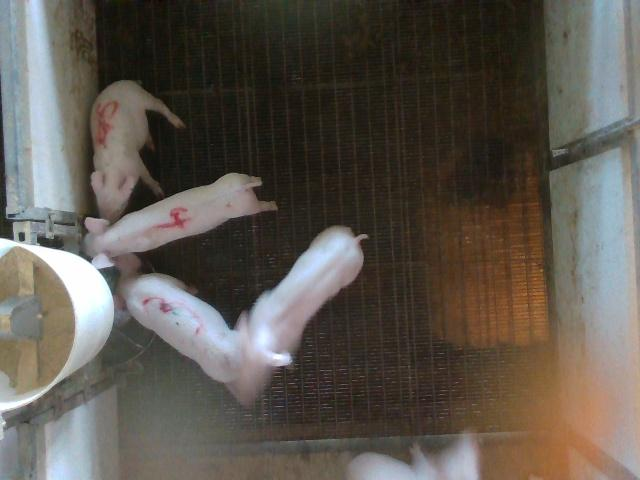pig-3: (116, 254, 239, 382)
pig-4: (85, 174, 276, 268)
pig-5: (90, 80, 184, 222)
